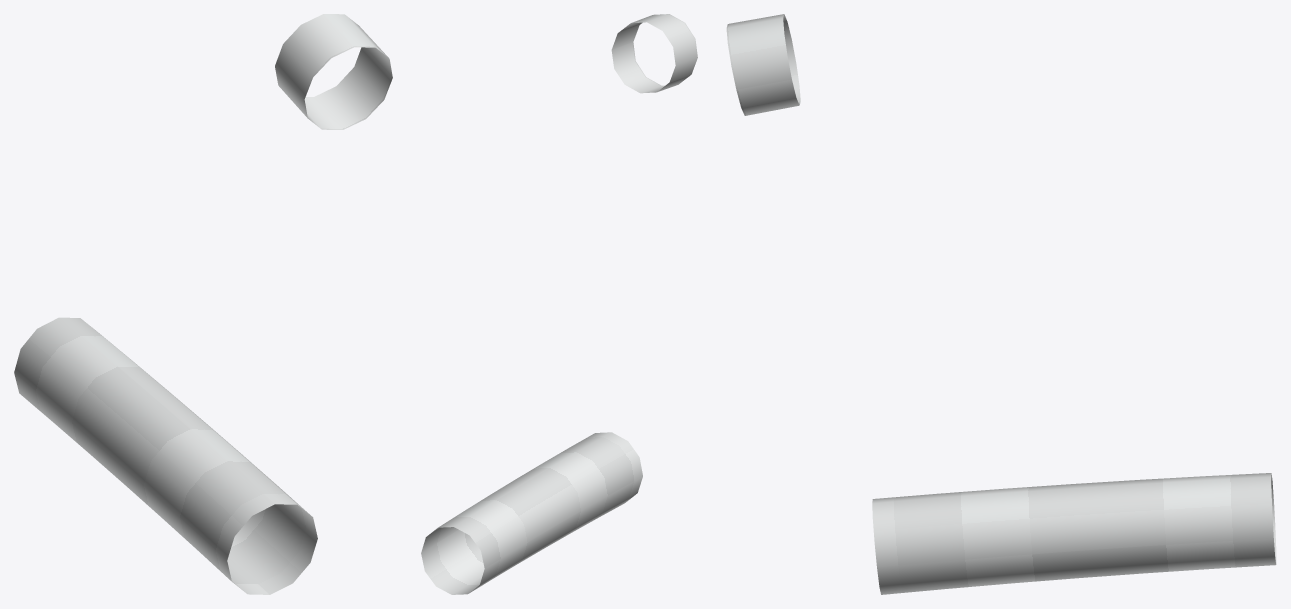
The model's file is luminairearm_vannuystriple_c10.obj.
The picture shows the model from 3 angles, left to right: view 1: azimuth 30°, elevation 25°; view 2: azimuth 150°, elevation 25°; view 3: azimuth 270°, elevation 25°; orthographic projection. The views are drawn at different scales.
Parts seen in each view (by area): view 1: luminairearm_vannuystriple_c10; view 2: luminairearm_vannuystriple_c10; view 3: luminairearm_vannuystriple_c10.
Boxes of the visible parts, x1,y1,x2,y2 form: luminairearm_vannuystriple_c10: (14,14,392,594); luminairearm_vannuystriple_c10: (421,14,697,594); luminairearm_vannuystriple_c10: (726,14,1276,594).
Size of the model in its own units: 0.1799 by 1.17 by 1.02.
